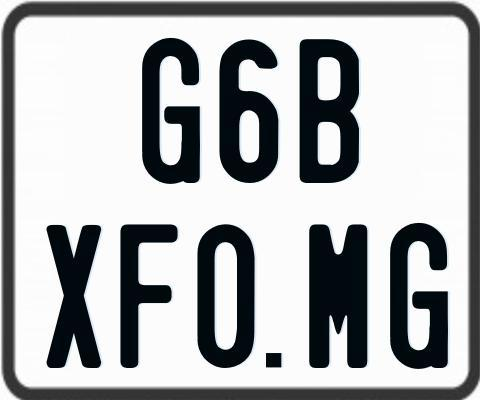0: (197, 223, 259, 369)
6: (216, 40, 276, 187)
B: (299, 39, 359, 183)
F: (119, 221, 177, 367)
G: (390, 220, 454, 367), (140, 35, 199, 185)
M: (309, 223, 368, 373)
X: (45, 225, 104, 371)
